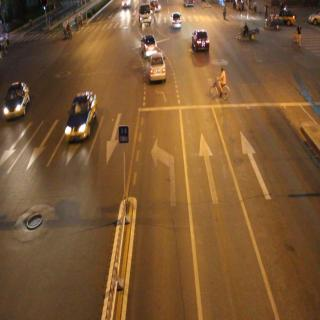Car: (65, 91, 97, 143), (4, 81, 28, 119), (273, 6, 298, 32), (148, 54, 167, 82), (140, 35, 157, 55), (192, 30, 208, 51), (138, 1, 152, 24), (170, 12, 183, 31)
